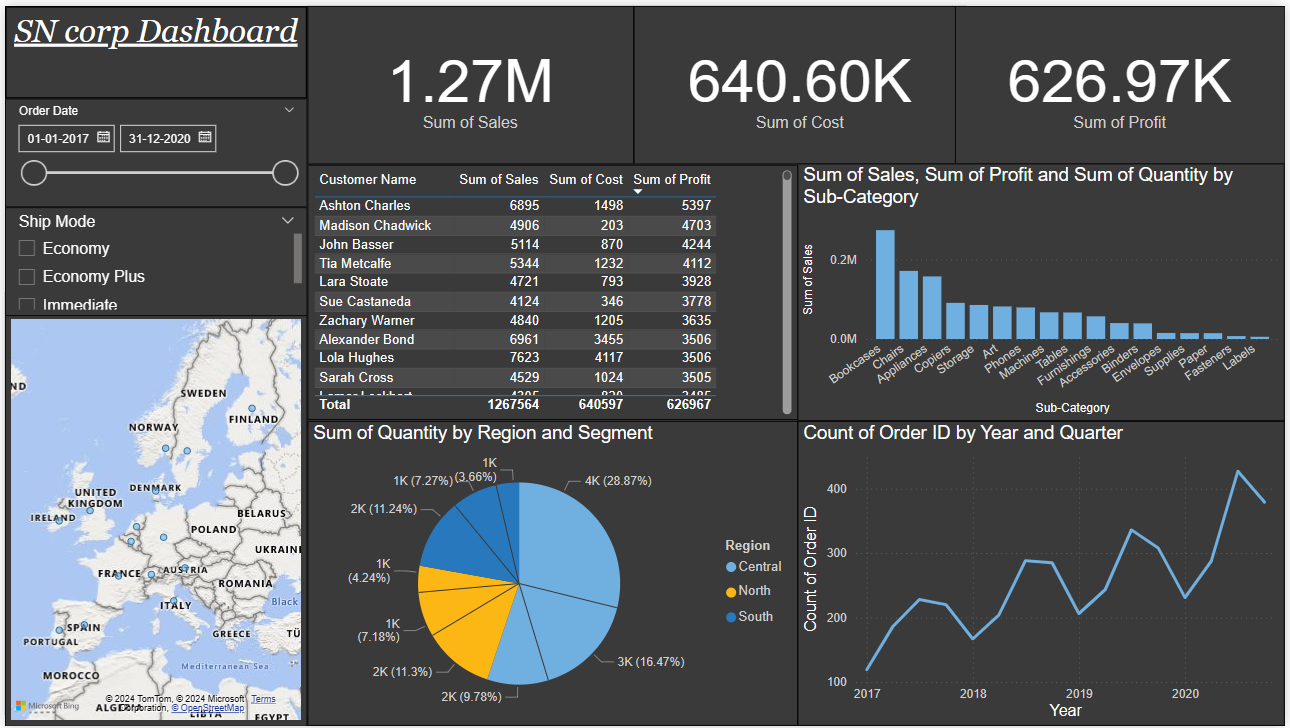

Layout of this report page (visuals, bound fields, positions):
{"tool":"powerbi","page":{"name":"Page 1","canvas":[1280,720],"ordinal":0},"visuals":[{"type":"card","fields":{"Values":["List of Orders.Sales"]},"box":[302.5,0,326.2,158.8],"z":0},{"type":"card","fields":{"Values":["List of Orders.Cost"]},"box":[628.6,0,332.9,158.6],"z":1000},{"type":"card","fields":{"Values":["List of Orders.Profit"]},"box":[950,0,330,158.6],"z":2000},{"type":"tableEx","fields":{"Values":["List of Orders.Customer Name","List of Orders.Sales","List of Orders.Cost","List of Orders.Profit"]},"box":[302,159,490.4,255.6],"z":3000},{"type":"clusteredColumnChart","fields":{"Y":["List of Orders.Sales"],"Category":["List of Orders.Sub-Category"]},"box":[792.5,157.5,487.5,257.5],"z":4000},{"type":"lineChart","fields":{"Y":["List of Orders.Order ID"],"Category":["List of Orders.Order Date.Variation.Date Hierarchy.Year","List of Orders.Order Date.Variation.Date Hierarchy.Quarter"]},"box":[792.5,415,487.5,305],"z":5000},{"type":"pieChart","fields":{"Category":["List of Orders.Region"],"Series":["List of Orders.Segment"],"Y":["List of Orders.Quantity"]},"box":[302.5,415,490,305],"z":6000},{"type":"map","fields":{"Category":["List of Orders.Country"]},"box":[0,286,302,434],"z":7000},{"type":"textbox","box":[0,0,302.5,92.5],"z":8000},{"type":"slicer","fields":{"Values":["List of Orders.Ship Mode"]},"box":[0,201.2,302.5,108.8],"z":9000},{"type":"slicer","fields":{"Values":["List of Orders.Order Date"]},"box":[0,92.5,302.5,108.8],"z":10000}]}

Visuals, with their boxes in screenshot pixels (x1, y1, x2, y2), scaled from the page's 1280x720 canvas onto the 1290x728 screenshot:
card - List of Orders.Sales: x1=305, y1=0, x2=634, y2=161
card - List of Orders.Cost: x1=634, y1=0, x2=969, y2=160
card - List of Orders.Profit: x1=957, y1=0, x2=1289, y2=160
tableEx - List of Orders.Customer Name x List of Orders.Sales: x1=304, y1=161, x2=799, y2=419
clusteredColumnChart - List of Orders.Sales x List of Orders.Sub-Category: x1=799, y1=159, x2=1289, y2=420
lineChart - List of Orders.Order ID x List of Orders.Order Date.Variation.Date Hierarchy.Year: x1=799, y1=420, x2=1289, y2=727
pieChart - List of Orders.Region x List of Orders.Segment: x1=305, y1=420, x2=799, y2=727
map - List of Orders.Country: x1=0, y1=289, x2=304, y2=727
textbox: x1=0, y1=0, x2=305, y2=94
slicer - List of Orders.Ship Mode: x1=0, y1=203, x2=305, y2=313
slicer - List of Orders.Order Date: x1=0, y1=94, x2=305, y2=204
